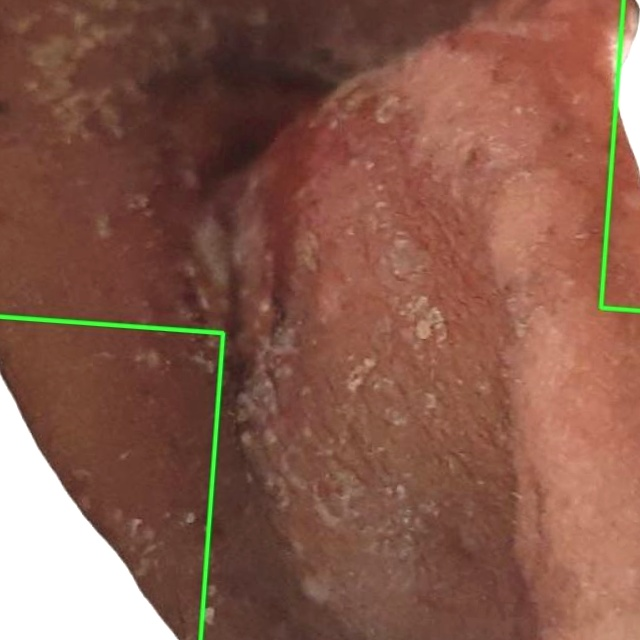Contact Dermatitis: (0, 316, 223, 639)
